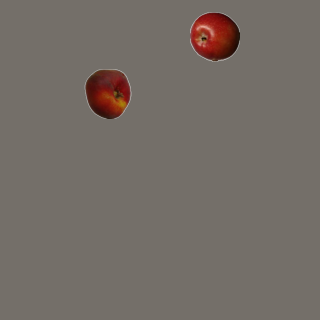Apple Braeburn: (189, 11, 239, 61)
Nectarine Flat: (82, 68, 132, 118)
